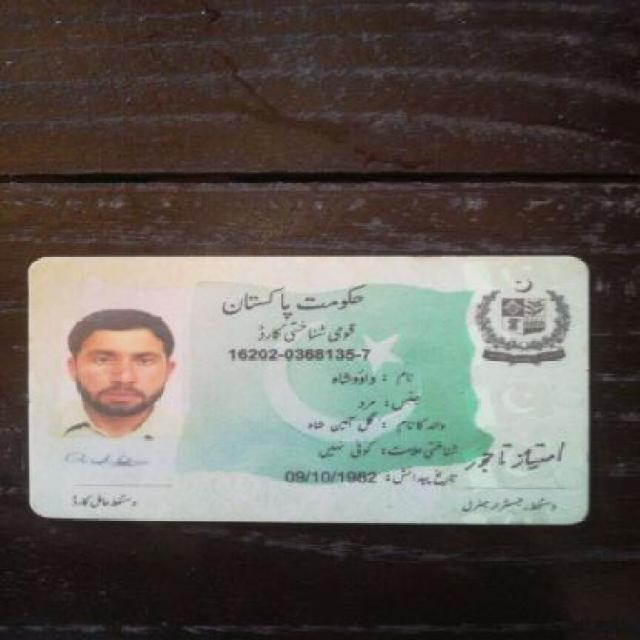Front: (18, 248, 594, 529)
